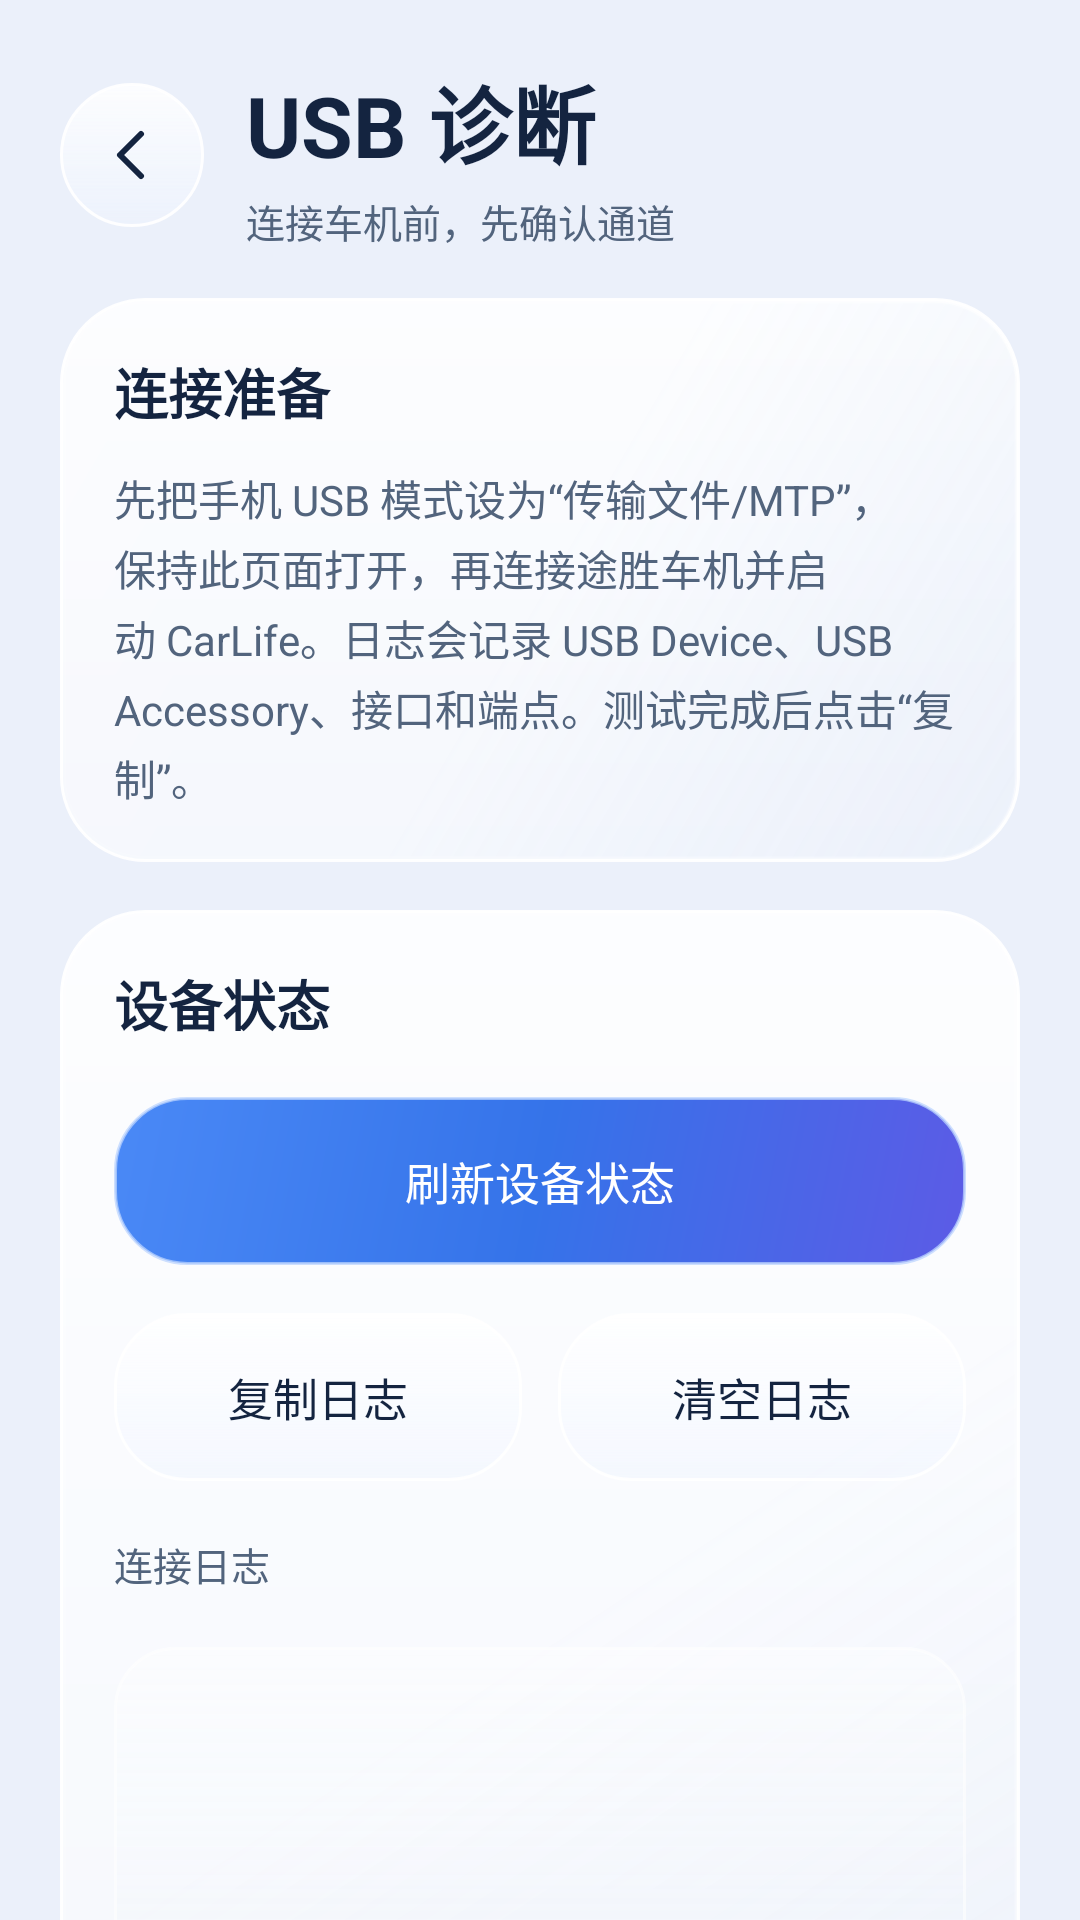

Named icons in this screenshot (1080*1920) and their bounding boxes, (x1, y1, x2, y2):
返回上一页: (117, 131, 144, 179)
